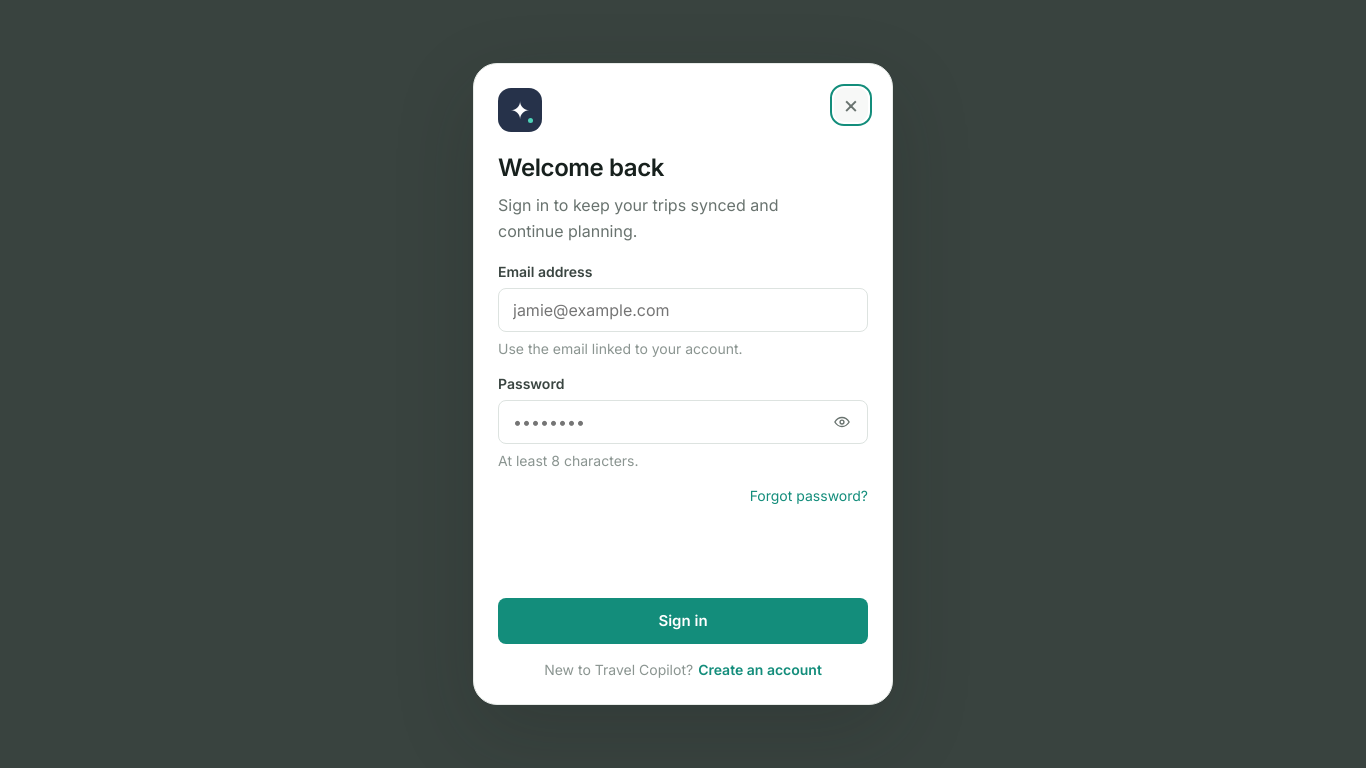
AuthModal › focuses the first invalid field
This screenshot has width=1366, height=768.
Click the button "Sign in": (683, 621) x1=498 y1=598 x2=868 y2=644
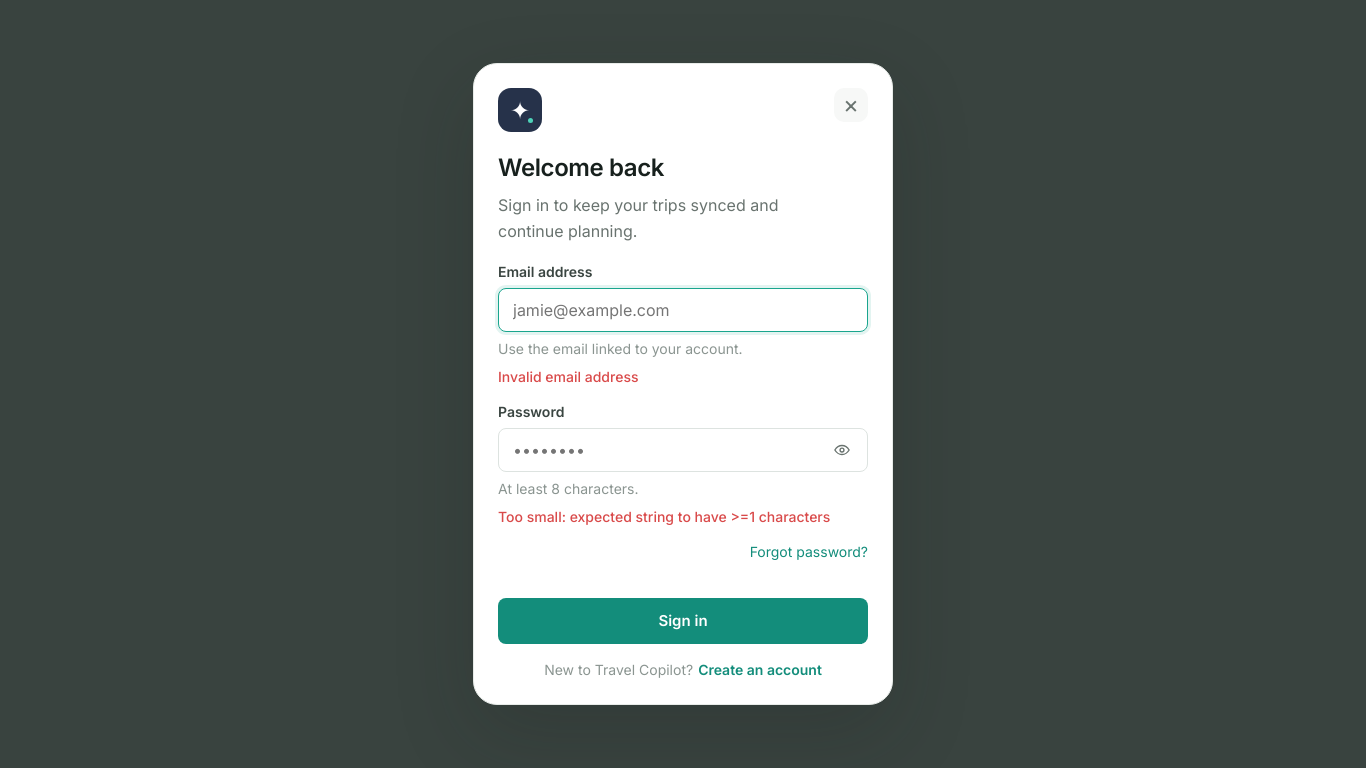
Expected: the text "Invalid email address" is shown, x1=498 y1=368 x2=638 y2=385
